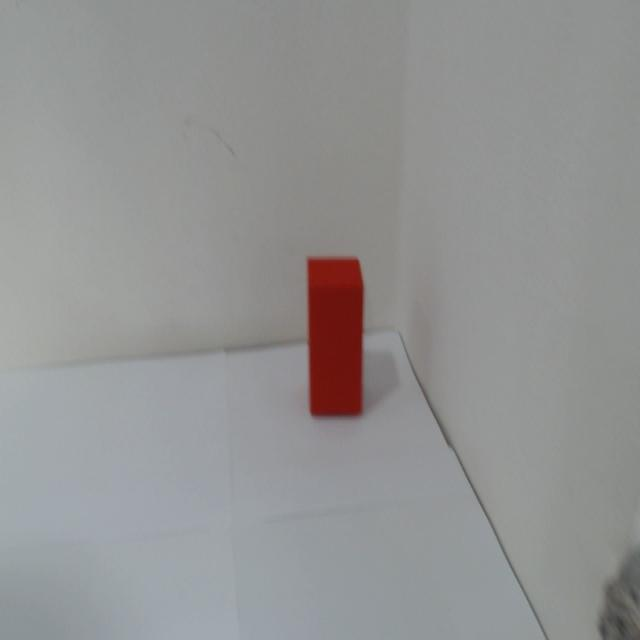cube: (304, 255, 368, 419)
